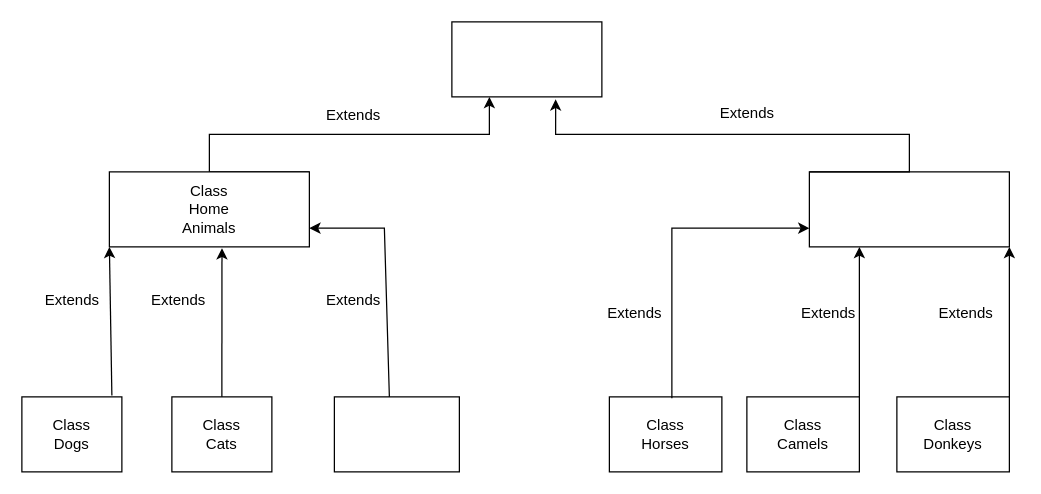
This 1041x494 diagram has some shape labels left out. The shapes that lost their labels are listed below. From the top down, each one's centre as x and y in pixels, then its label:
the point at 526,59: Class Animals
the point at 908,209: Class Packed Animals
the point at 396,434: Class Hamsters
